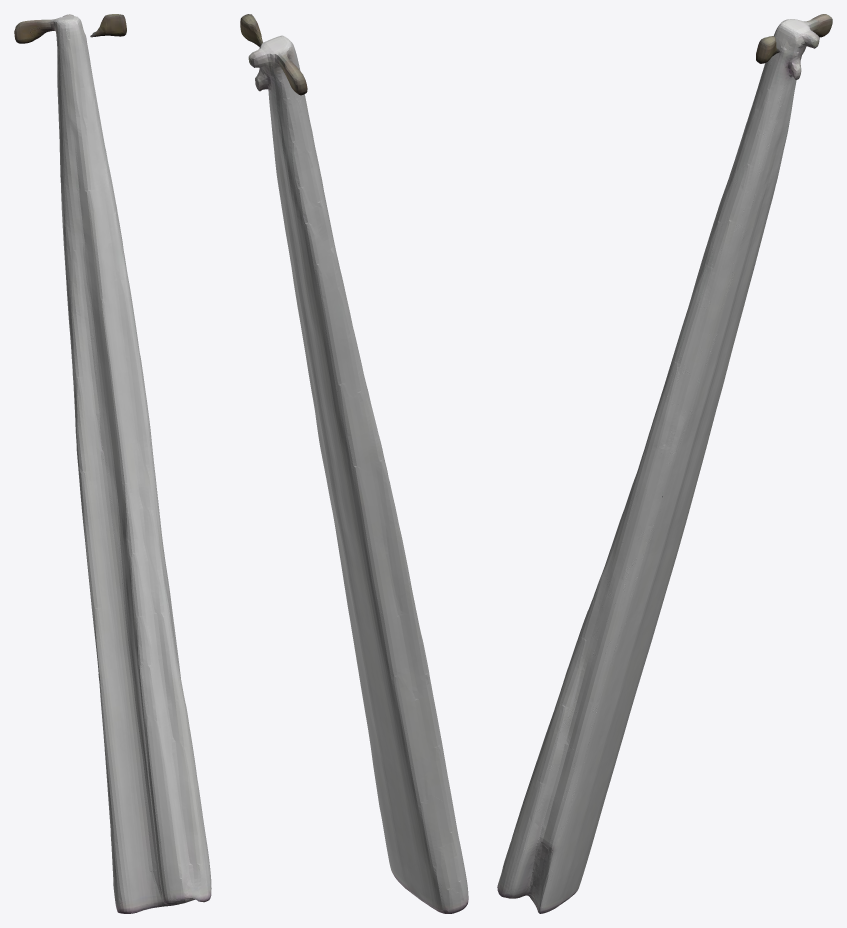
The model's file is white_curtains_on_right_window_000.glb.
The picture shows the model from 3 angles, left to right: view 1: azimuth 30°, elevation 25°; view 2: azimuth 150°, elevation 25°; view 3: azimuth 270°, elevation 25°; orthographic projection. The views are drawn at different scales.
Parts seen in each view (by area): view 1: white_curtains_on_right_window_000.obj; view 2: white_curtains_on_right_window_000.obj; view 3: white_curtains_on_right_window_000.obj.
Boxes of the visible parts, <box> form: white_curtains_on_right_window_000.obj: <box>14,14,211,913</box>; white_curtains_on_right_window_000.obj: <box>240,14,468,913</box>; white_curtains_on_right_window_000.obj: <box>497,14,832,913</box>.
Size of the model in its own units: 0.1446 by 1.11 by 0.3767.
1 material, 1 textured.
